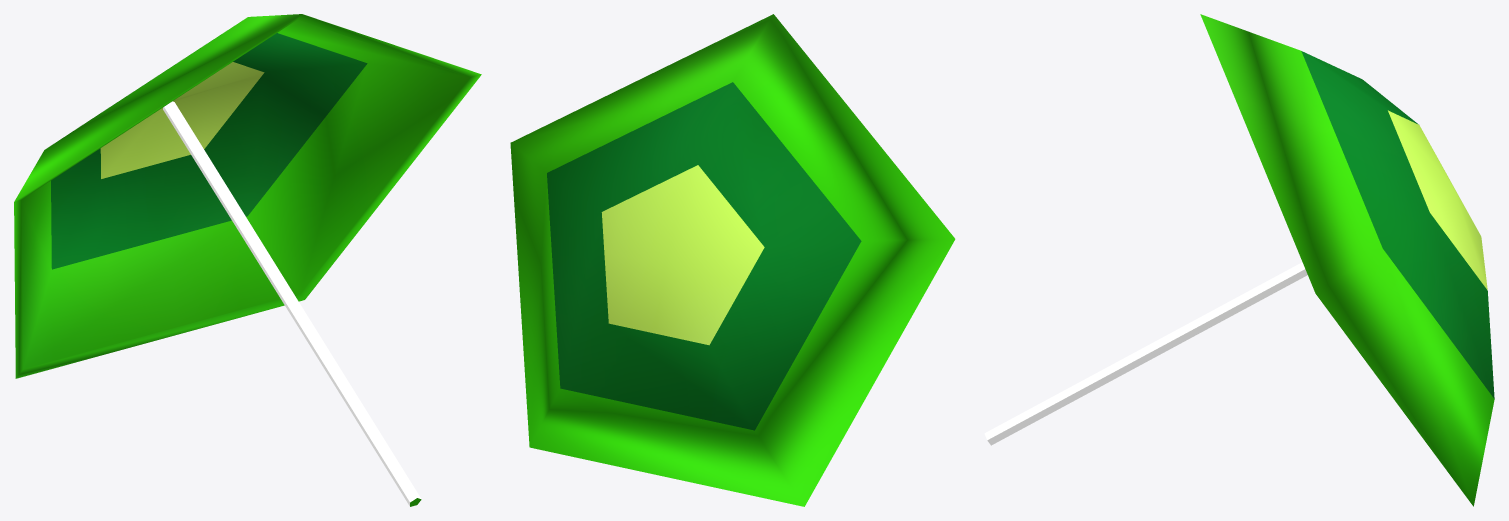
Rendered from BeachUmbrellaOnGroundGreen.glb.
3 renders of one model, left to right at view 1: azimuth 30°, elevation 25°; view 2: azimuth 150°, elevation 25°; view 3: azimuth 270°, elevation 25°, orthographic. The views are drawn at different scales.
Parts seen in each view (by area): view 1: BeachUmbrellaOnGroundGreen; view 2: BeachUmbrellaOnGroundGreen; view 3: BeachUmbrellaOnGroundGreen.
Part boxes in pixels (left/top/right/bottom): BeachUmbrellaOnGroundGreen: left=14, top=14, right=481, bottom=506; BeachUmbrellaOnGroundGreen: left=510, top=14, right=955, bottom=506; BeachUmbrellaOnGroundGreen: left=984, top=14, right=1494, bottom=506.
Bounding box in the file's own units: 2.42 × 2.01 × 2.18.
1 material, 1 textured.
